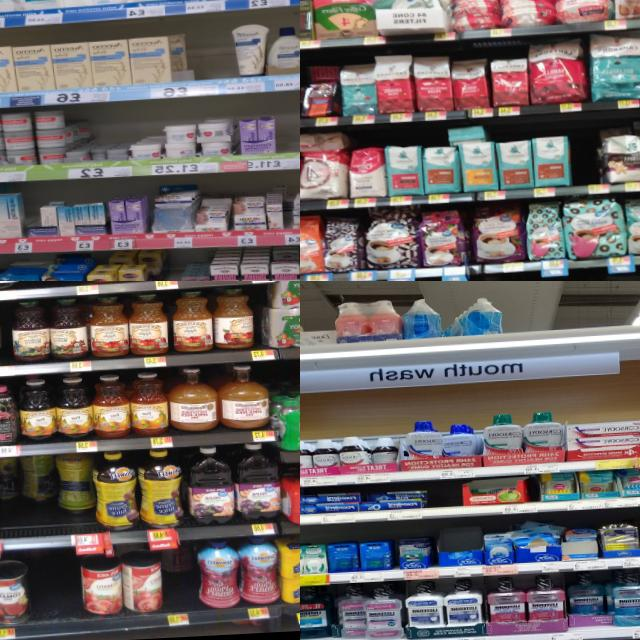100- O.O.S: (28, 556, 82, 634), (191, 19, 234, 96), (570, 124, 598, 194), (274, 95, 300, 169), (428, 480, 463, 516), (19, 281, 88, 297), (161, 267, 182, 281)
